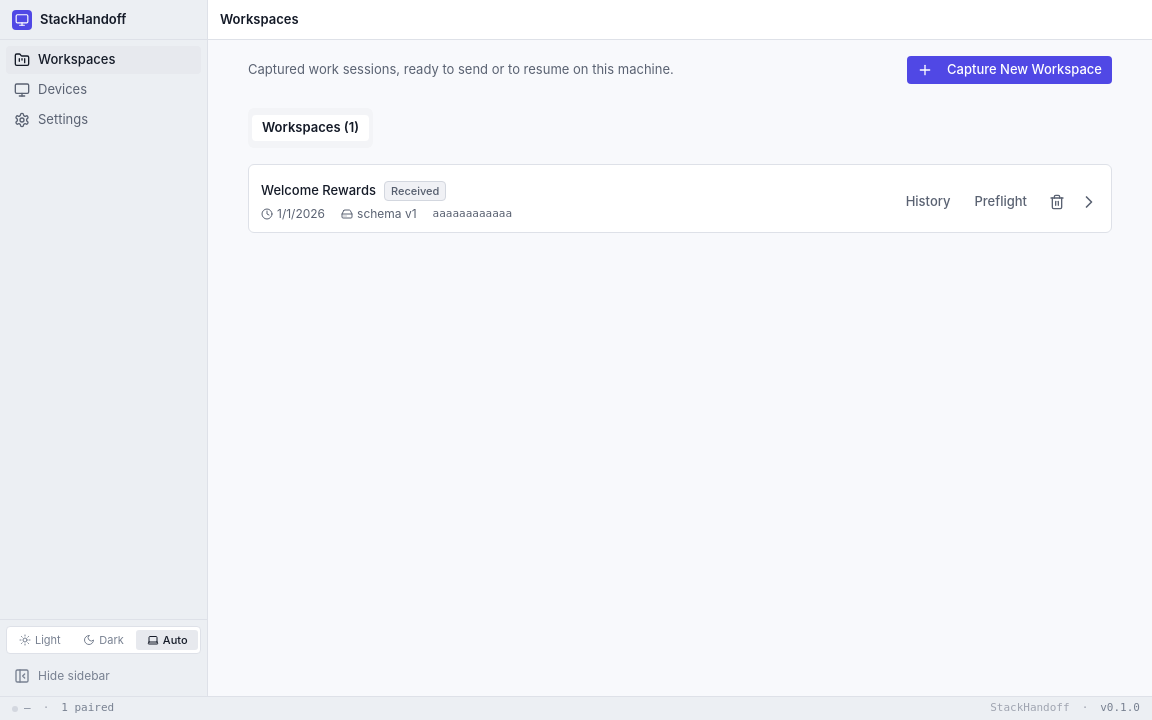
transfer history answers "did it get there?" › scopes the query to the selected workspace
The image size is (1152, 720).
What coordinates should you click on to do the following:
click the button "History"
I would click on:
 (928, 202)
Its box is 898,190 -> 958,214.
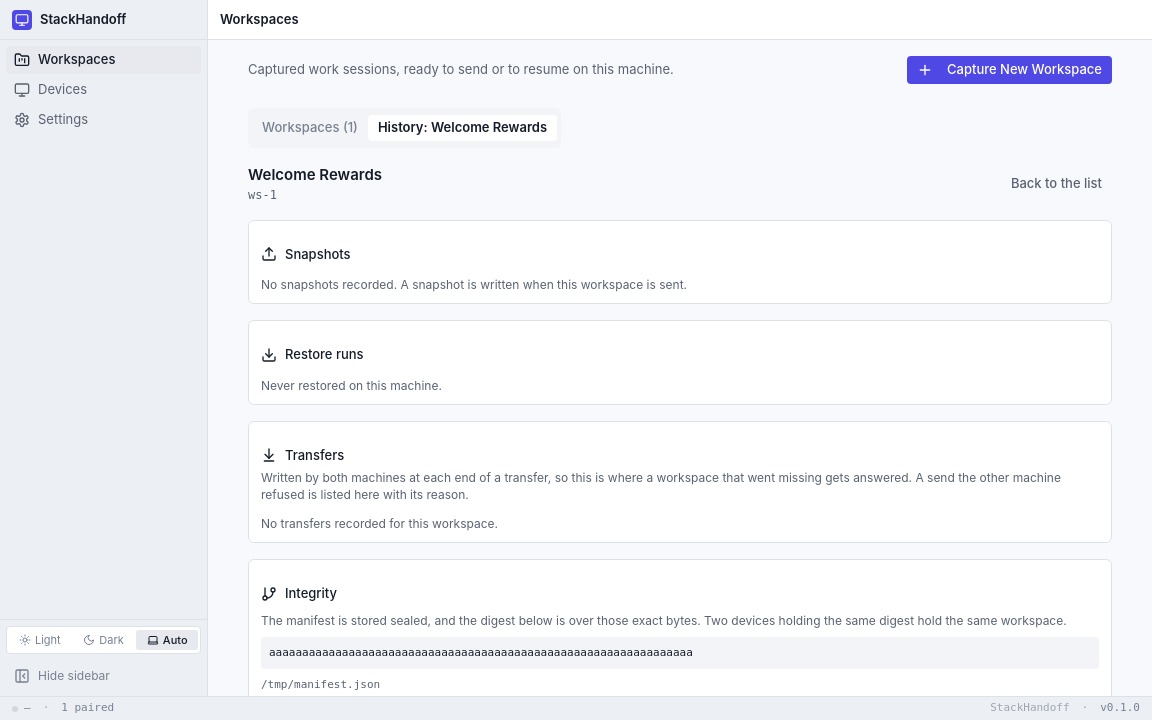
Expected: the text "ws-1" is shown, 248,188 -> 277,202
